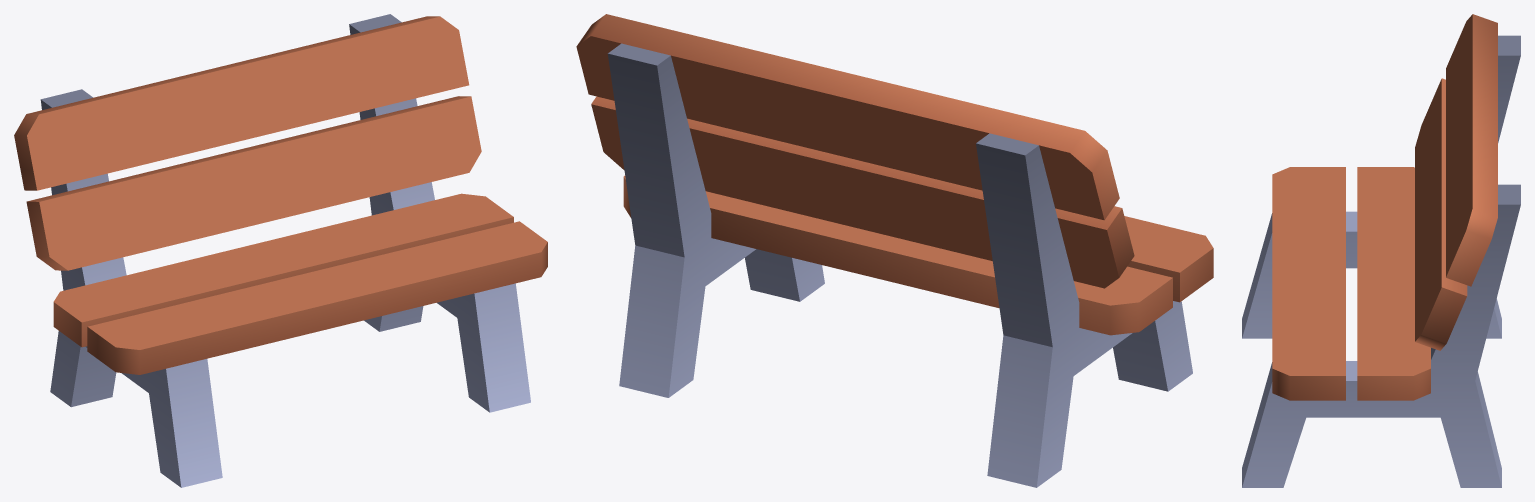
The model's file is bench.glb.
3 views of the same model, side by side, from view 1: azimuth 30°, elevation 25°; view 2: azimuth 150°, elevation 25°; view 3: azimuth 270°, elevation 25° (orthographic). The views are drawn at different scales.
Visible parts, largest first — view 1: bench; view 2: bench; view 3: bench.
Boxes of the visible parts, bbox=[...] form: bench: bbox=[14, 14, 547, 487]; bench: bbox=[576, 14, 1213, 487]; bench: bbox=[1242, 14, 1520, 487].
Bounding box in the file's own units: 16.14 × 10.52 × 9.1.
1 material, 1 textured.
